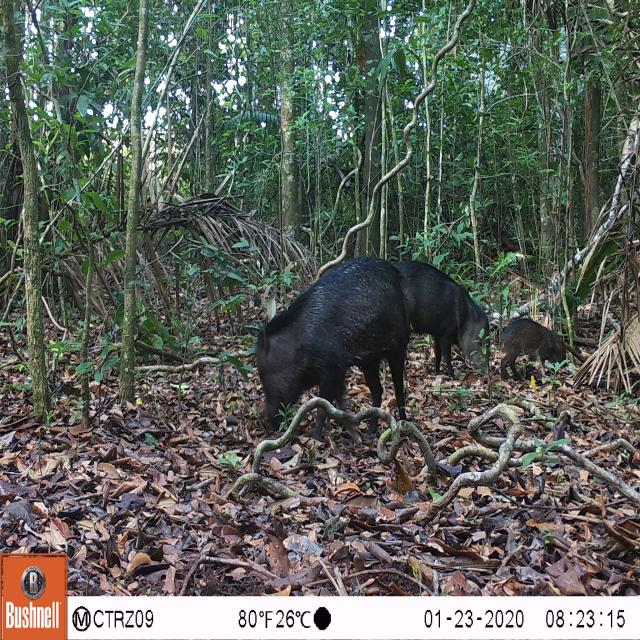Collared Peccary: (248, 240, 410, 424), (391, 251, 493, 379), (498, 306, 583, 380)
